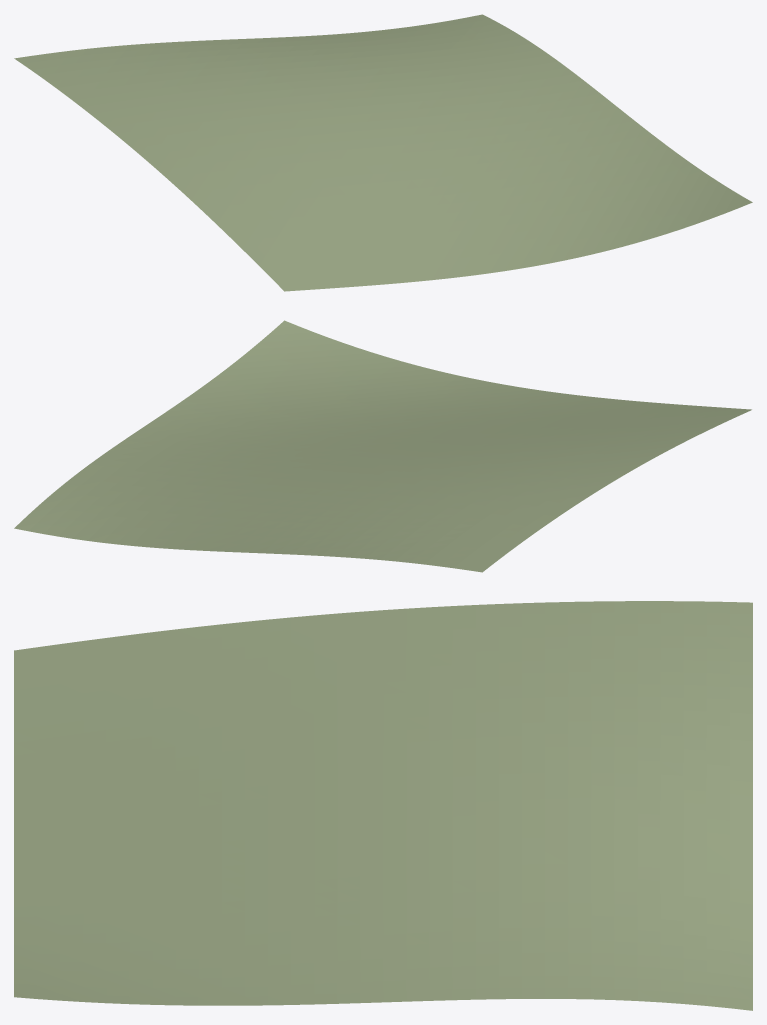
File: expanse-14-17.glb
3 renders of one model, top to bottom at view 1: azimuth 30°, elevation 25°; view 2: azimuth 150°, elevation 25°; view 3: azimuth 270°, elevation 25°, orthographic. The views are drawn at different scales.
Visible parts, largest first — view 1: expanse-14-17; view 2: expanse-14-17; view 3: expanse-14-17.
Part boxes in pixels (x1,y1,x2,y2): expanse-14-17: [14, 14, 752, 291]; expanse-14-17: [14, 320, 751, 572]; expanse-14-17: [14, 601, 752, 1010].
Size of the model in its own units: 256 by 38.78 by 256.
